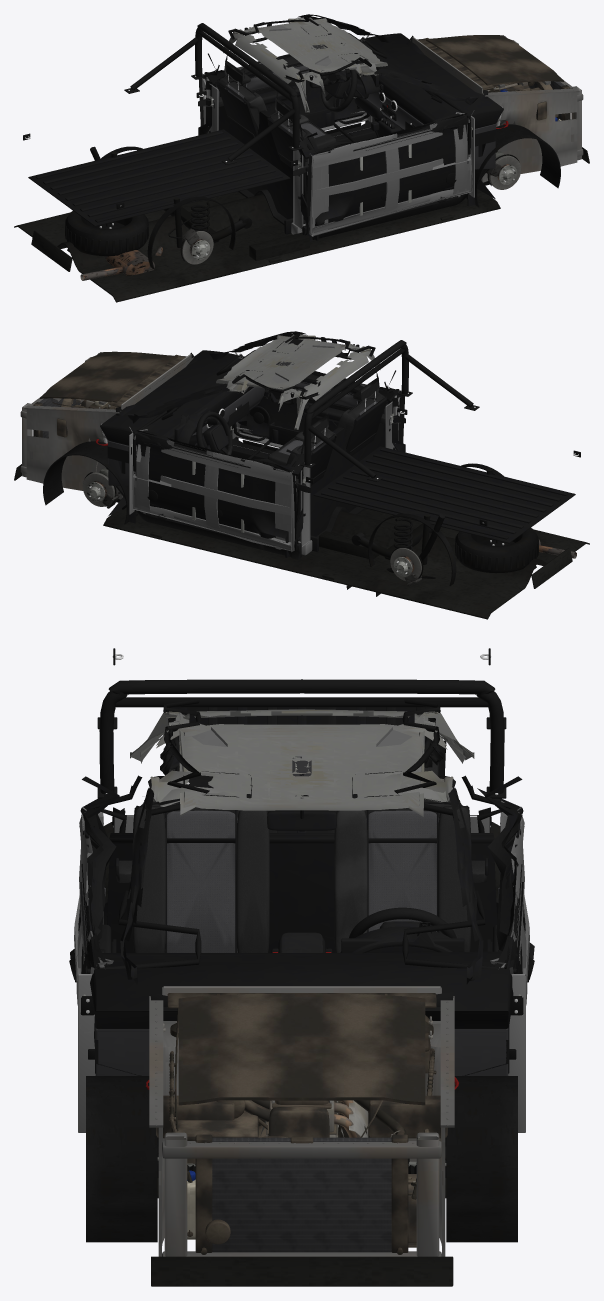
File: tropeiro_completo.glb
The picture shows the model from 3 angles, top to bottom: view 1: azimuth 30°, elevation 25°; view 2: azimuth 150°, elevation 25°; view 3: azimuth 270°, elevation 25°; orthographic projection. The views are drawn at different scales.
Parts seen in each view (by area): view 1: under_assoalho, cargo_protetor, interior_painel, door_card_fr_chapa, door_card_fr, interior_forro_teto, engine_paralama_interno_dir, hood_manta, cargo_santantonio, door_card_fl, under_estepe, interior_banco_dianteiro_esq (+24 smaller); view 2: under_assoalho, cargo_protetor, interior_painel, door_card_fl_chapa, door_card_fl, interior_forro_teto, engine_paralama_interno_esq, hood_manta, door_card_fr, cargo_santantonio, under_estepe, interior_banco_dianteiro_dir (+23 smaller); view 3: hood_manta, interior_painel, interior_forro_teto, engine_radiador, interior_banco_dianteiro_dir, engine_travessa, interior_banco_dianteiro_esq, cargo_santantonio, under_caixa_roda_fr, under_caixa_roda_fl, interior_parede_cabine, under_saias (+20 smaller).
Boxes of the visible parts, x1,y1,x2,y2 form: under_assoalho: (14,189,500,302); cargo_protetor: (28,129,290,226); interior_painel: (339,33,503,169); door_card_fr_chapa: (308,112,472,236); door_card_fr: (313,113,468,226); interior_forro_teto: (223,18,387,112); engine_paralama_interno_dir: (481,87,579,182); hood_manta: (426,35,563,88); cargo_santantonio: (124,23,303,164); door_card_fl: (204,38,365,129); under_estepe: (65,211,148,256); interior_banco_dianteiro_esq: (217,51,336,148); under_assoalho: (103,507,589,619); cargo_protetor: (313,446,575,543); interior_painel: (100,350,264,486); door_card_fl_chapa: (132,429,299,551); door_card_fl: (135,430,291,542); interior_forro_teto: (216,335,380,429); engine_paralama_interno_esq: (24,404,120,499); hood_manta: (40,351,177,404); door_card_fr: (237,355,398,445); cargo_santantonio: (300,340,479,481); under_estepe: (455,528,538,573); interior_banco_dianteiro_dir: (267,368,386,465); hood_manta: (178,993,425,1105); interior_painel: (85,922,518,1075); interior_forro_teto: (130,709,474,816); engine_radiador: (195,1134,408,1254); interior_banco_dianteiro_dir: (132,741,278,952); engine_travessa: (156,1095,447,1256); interior_banco_dianteiro_esq: (325,741,471,952); cargo_santantonio: (97,679,506,798); under_caixa_roda_fr: (86,1076,157,1242); under_caixa_roda_fl: (446,1076,517,1242); interior_parede_cabine: (106,833,497,952); under_saias: (151,1256,453,1286).
Size of what is drawn, in the model's own units: 4.14 by 1.47 by 1.66.
Materials: 53 (53 with a texture image).
